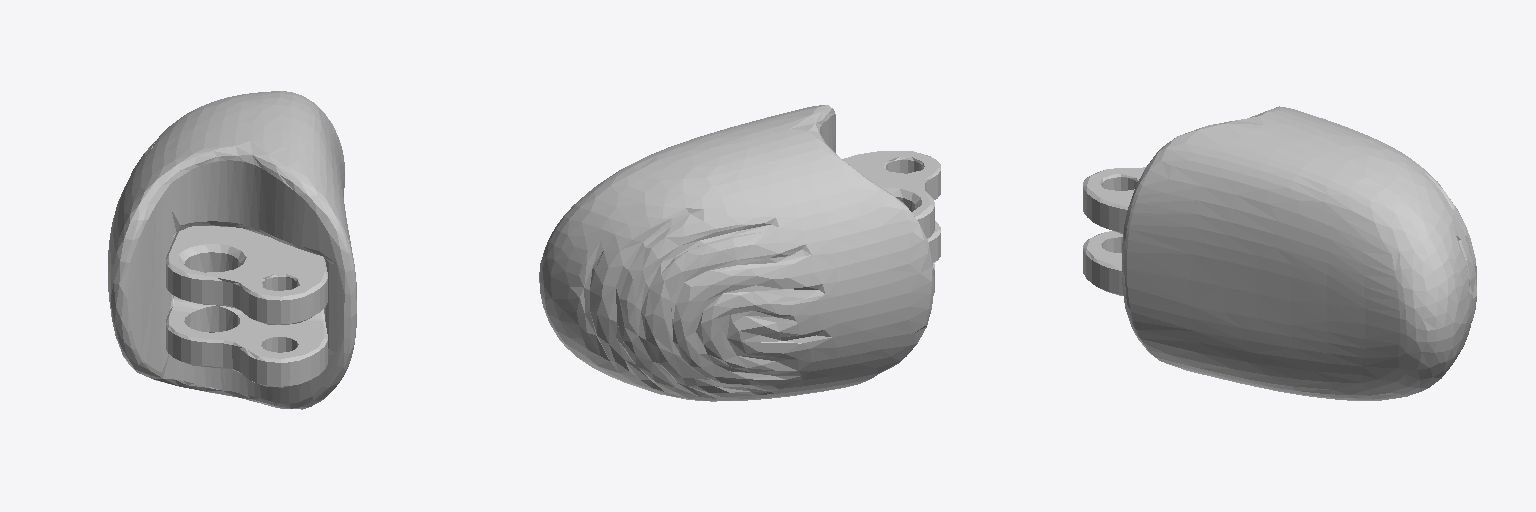
The model's file is L_thumb_distal.obj.
3 renders of one model, left to right at view 1: azimuth 30°, elevation 25°; view 2: azimuth 150°, elevation 25°; view 3: azimuth 270°, elevation 25°, orthographic.
Visible parts, largest first — view 1: L_thumb_distal; view 2: L_thumb_distal; view 3: L_thumb_distal.
Part boxes in pixels (bbox=[...]): L_thumb_distal: bbox=[108, 91, 356, 409]; L_thumb_distal: bbox=[539, 105, 940, 401]; L_thumb_distal: bbox=[1083, 106, 1476, 400].
Size of the model in its own units: 0.0285 by 0.022 by 0.0316.